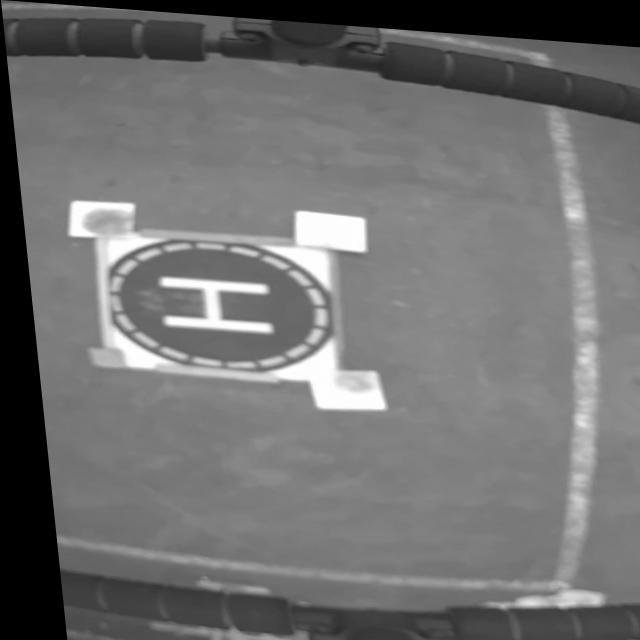Helipad: (155, 274, 265, 330)
